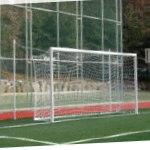goals: (31, 45, 141, 123)
